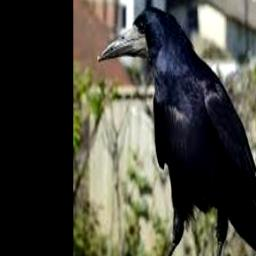Crow: (98, 3, 256, 256)
